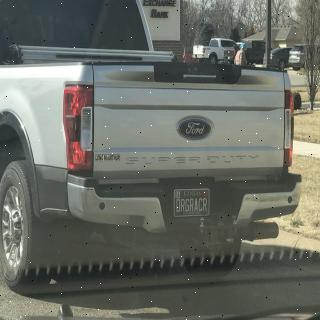license: (175, 189, 210, 219)
